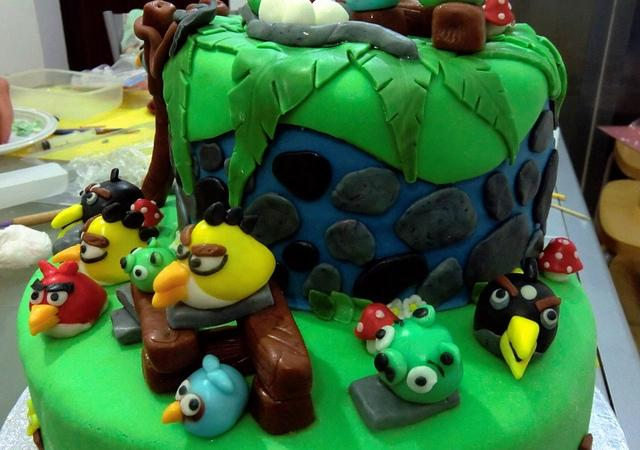mushroom: (354, 303, 401, 356), (538, 237, 584, 282), (482, 1, 515, 38), (130, 198, 164, 230)
